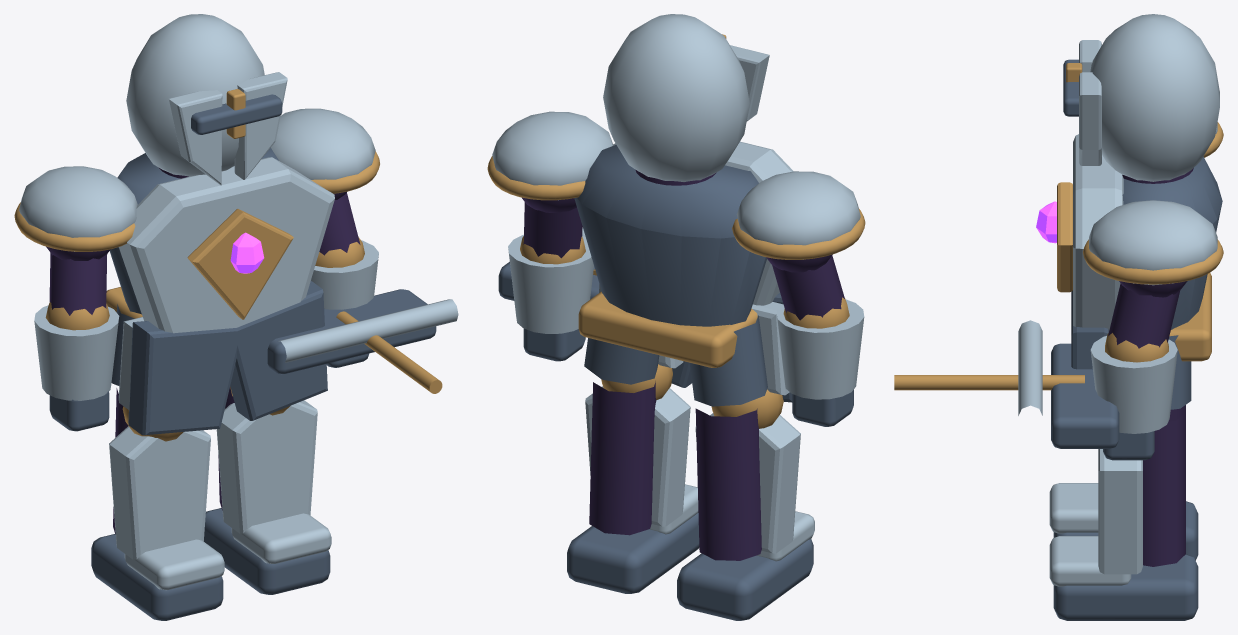
File: moonsteel-convergence-arbalist-minion-c1e6a390__18175.glb
3 renders of one model, left to right at view 1: azimuth 30°, elevation 25°; view 2: azimuth 150°, elevation 25°; view 3: azimuth 270°, elevation 25°, orthographic. The views are drawn at different scales.
Visible parts, largest first — view 1: arbalist-minion; view 2: arbalist-minion; view 3: arbalist-minion.
Boxes of the visible parts, x1,y1,x2,y2 form: arbalist-minion: [14, 14, 458, 620]; arbalist-minion: [487, 14, 865, 620]; arbalist-minion: [894, 14, 1223, 620].
Size of the model in its own units: 0.9034 by 1.3 by 0.6889.
